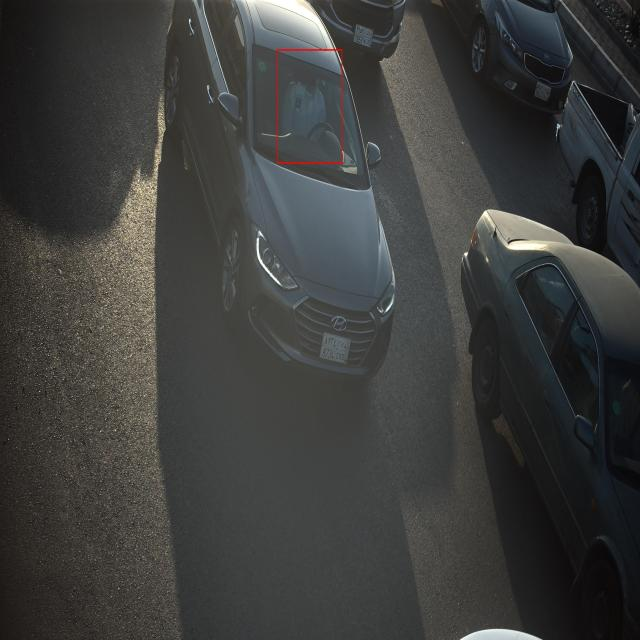windshield: (244, 36, 370, 192)
